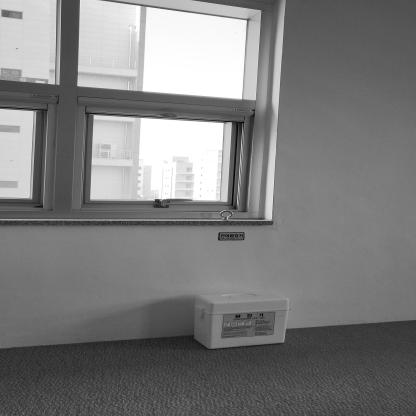DDL: (195, 292, 289, 350)
